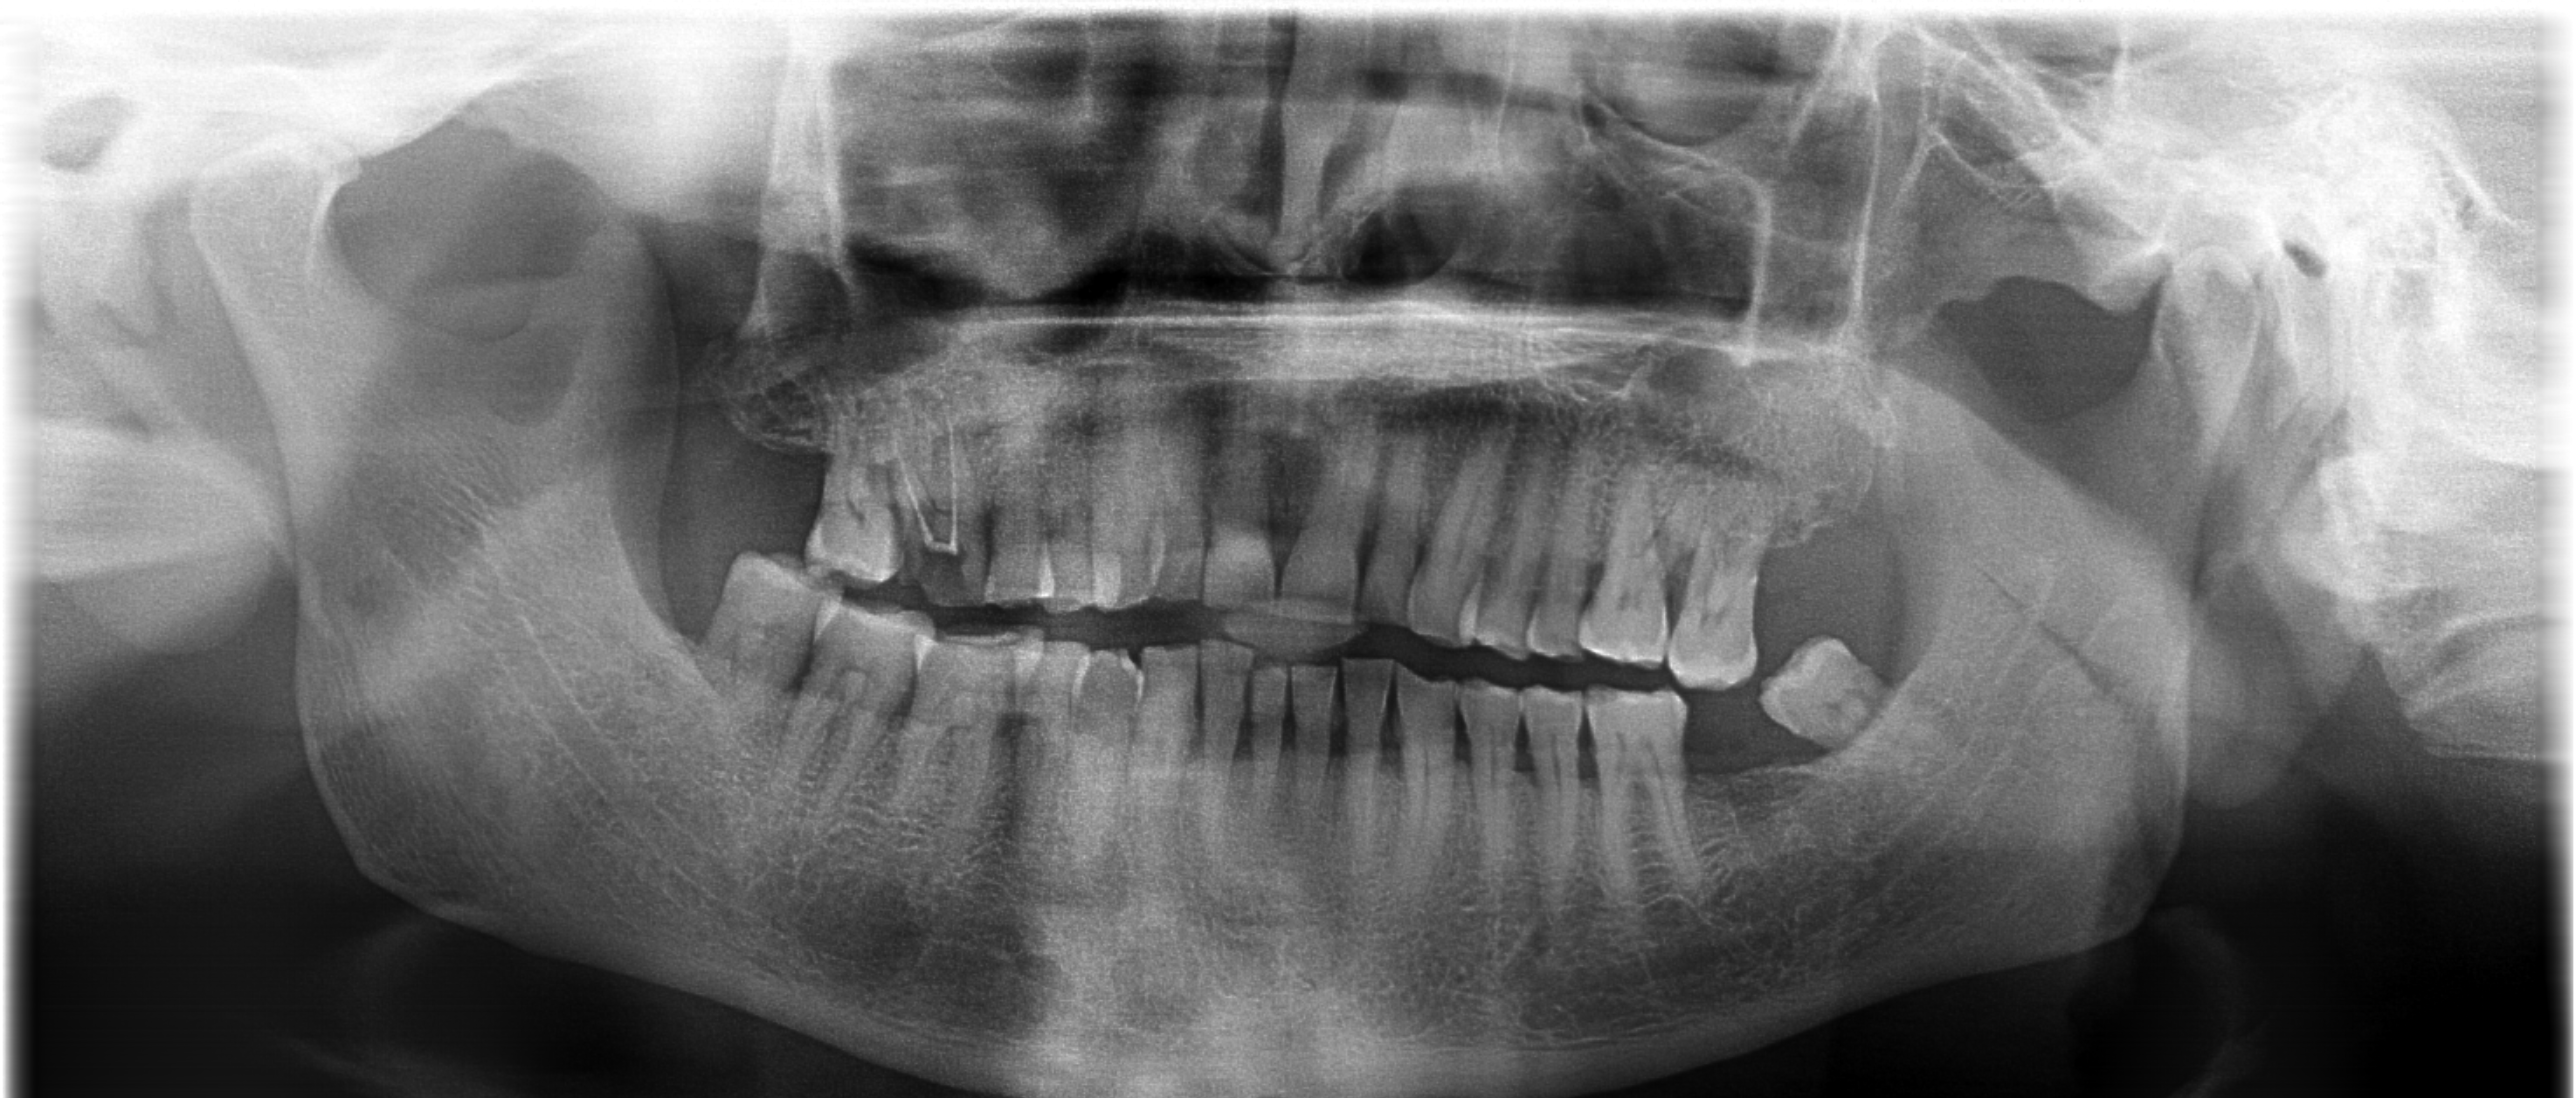cordal: (678, 519, 848, 753), (1750, 607, 1940, 787)
tratamiento_conducto: (884, 408, 992, 611)
